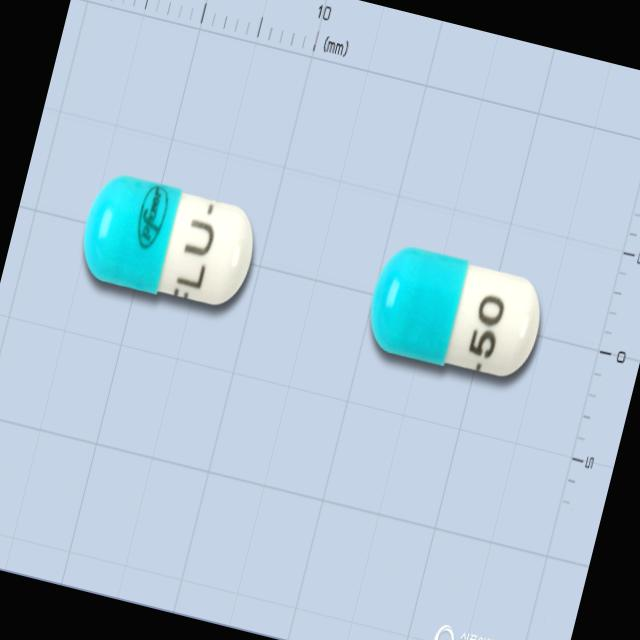Diflucan Cap - 150mg: (72, 166, 265, 316), (359, 238, 552, 387)
